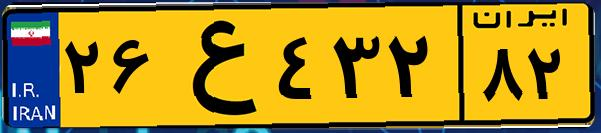2: (385, 28, 445, 110), (57, 26, 110, 100), (525, 38, 570, 115)
3: (330, 28, 385, 110)
4: (270, 28, 330, 110)
6: (110, 28, 158, 98)
8: (475, 38, 525, 113)
ع: (158, 12, 270, 120)
